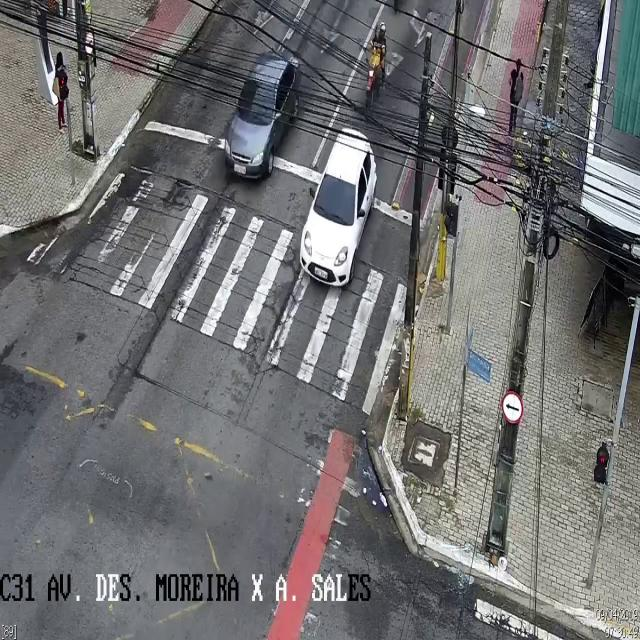Car: (300, 128, 378, 286), (224, 53, 300, 183)
Motorcycle: (362, 22, 386, 119)
